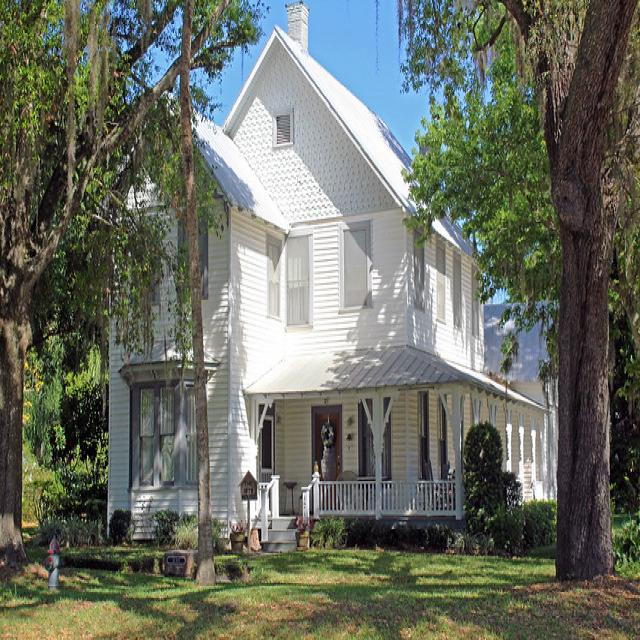Normal_building: (102, 3, 564, 561)
